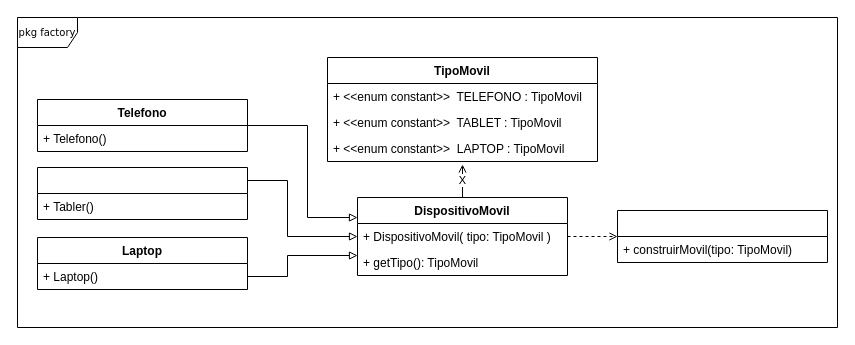
The diagram is 855 pixels wide and 345 high, and some of its shapes have lost their labels. The box of each missing label's shape, as (x1, y1, x2, y2) in pixels:
FactoryMovil: (616, 210, 828, 262)
Tablet: (36, 166, 248, 220)
